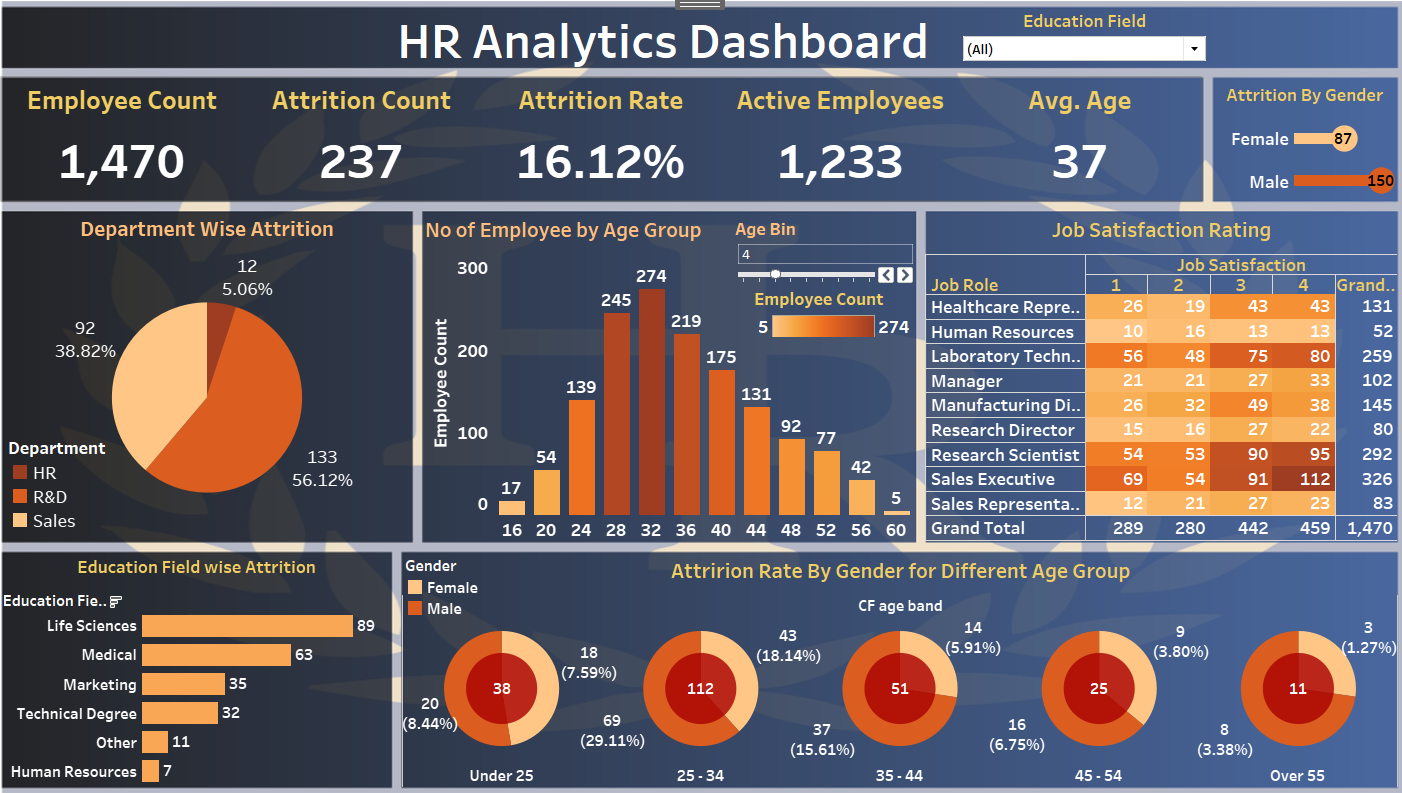

This screenshot's page, from the dashboard's own definition file:
{"tool":"tableau","page":{"name":"HR Analytics Dashboard","canvas":[1707,801],"ordinal":0},"visuals":[{"type":"image","param":"Image/HR background.pptx.png","box":[0,0,1707,801]},{"type":"text","box":[538,10,556,64]},{"type":"filter","title":"Education Field wise Attrition","param":"[federated.1yncs4b1p9iz9q10hcrgp05aexxx].[none:Education Field:nk]","box":[1113,11,249,58]},{"type":"worksheet","title":"KPI","mark":"Automatic","box":[155,81,1198,122]},{"type":"worksheet","title":"Attrition By Gender ","mark":"Automatic","rows":["Gender"],"cols":["Calculation_1764003741543124992","Calculation_1764003741543124992"],"box":[1367,81,185,124]},{"type":"worksheet","title":"Department Wise Attrition","mark":"Pie","box":[155,213,410,333]},{"type":"worksheet","title":"No of Employee by Age Group","mark":"Automatic","rows":["Employee Count"],"cols":["Age (bin)"],"box":[574,214,493,331]},{"type":"worksheet","title":"Job Satisfaction Rating","mark":"Square","rows":["Job Role"],"cols":["Job Satisfaction"],"box":[1078,214,473,330]},{"type":"parameter","param":"[Parameters].[Parameter 1]","box":[888,220,181,77]},{"type":"legend","title":"No of Employee by Age Group","param":"[federated.1yncs4b1p9iz9q10hcrgp05aexxx].[sum:Employee Count:qk]","box":[907,290,160,50]},{"type":"legend","title":"Department Wise Attrition","param":"[federated.1yncs4b1p9iz9q10hcrgp05aexxx].[none:Department:nk]","box":[161,439,139,108]},{"type":"worksheet","title":"Education Field wise Attrition","mark":"Automatic","rows":["Education Field"],"cols":["Calculation_1764003741543124992"],"box":[155,553,389,236]},{"type":"worksheet","title":"Attririon Rate By Gender for Different Age Group","mark":"Pie","rows":["Calculation_1460855191924768769","Calculation_1460855191924768769"],"cols":["CF_age band"],"box":[555,555,997,236]},{"type":"legend","title":"Attririon Rate By Gender for Different Age Group","param":"[federated.1yncs4b1p9iz9q10hcrgp05aexxx].[none:Gender:nk]","box":[558,558,91,69]}]}

Visuals, with their boxes on the page's 1707x801 design canvas (x1, y1, x2, y2). These are canvas units, not pixel positions in the 1402x793 screenshot, which may show the page scaled, cropped or inside an application window:
image: detection(0, 0, 1707, 801)
text: detection(538, 10, 1094, 74)
"Education Field wise Attrition" filter: detection(1113, 11, 1362, 69)
"KPI" worksheet: detection(155, 81, 1353, 203)
"Attrition By Gender " worksheet: detection(1367, 81, 1552, 205)
"Department Wise Attrition" worksheet (Pie marks): detection(155, 213, 565, 546)
"No of Employee by Age Group" worksheet: detection(574, 214, 1067, 545)
"Job Satisfaction Rating" worksheet (Square marks): detection(1078, 214, 1551, 544)
parameter: detection(888, 220, 1069, 297)
"No of Employee by Age Group" legend: detection(907, 290, 1067, 340)
"Department Wise Attrition" legend: detection(161, 439, 300, 547)
"Education Field wise Attrition" worksheet: detection(155, 553, 544, 789)
"Attririon Rate By Gender for Different Age Group" worksheet (Pie marks): detection(555, 555, 1552, 791)
"Attririon Rate By Gender for Different Age Group" legend: detection(558, 558, 649, 627)
